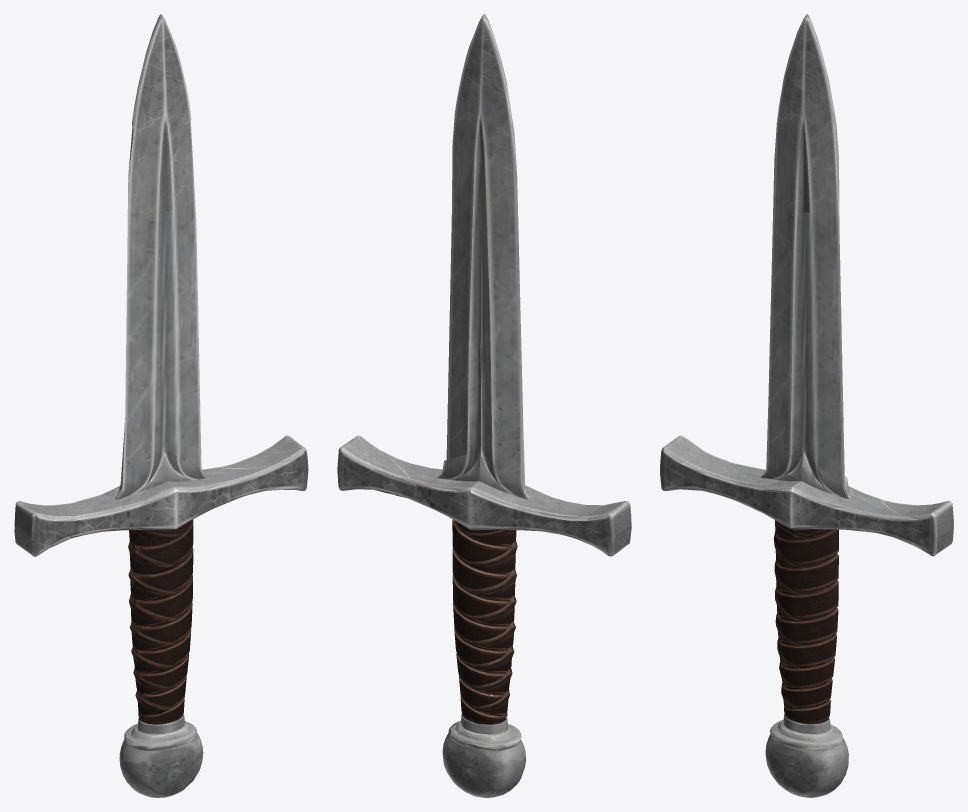
The model's file is sword-plain-short.glb.
The picture shows the model from 3 angles, left to right: view 1: azimuth 30°, elevation 25°; view 2: azimuth 150°, elevation 25°; view 3: azimuth 330°, elevation 25°; orthographic projection.
Visible parts, largest first — view 1: output_unwrapped; view 2: output_unwrapped; view 3: output_unwrapped.
Boxes of the visible parts, x1=… form: output_unwrapped: x1=14, y1=14, x2=308, y2=797; output_unwrapped: x1=337, y1=14, x2=631, y2=797; output_unwrapped: x1=660, y1=14, x2=953, y2=797.
Size of the model in its own units: 0.7077 by 1.9 by 0.1366.
Materials: 1 (1 with a texture image).
